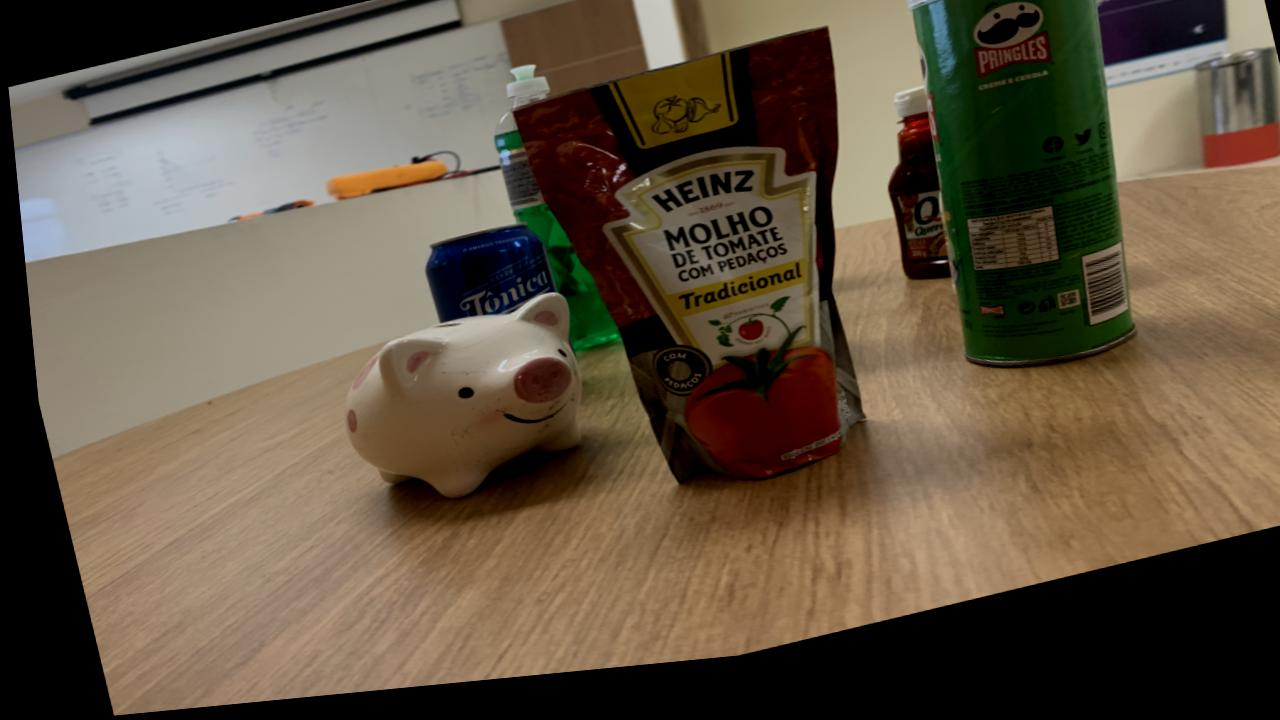Detergent-Cleanup_Items: (489, 121, 611, 361), (502, 74, 547, 119)
Ketchup-Pantry_Items: (882, 105, 943, 297)
Pig_Safe-Miscellaneous: (335, 302, 573, 506)
Pringles-Snacks: (906, 0, 1125, 386)
Tomato_Sauce-Pantry_Items: (511, 43, 853, 494)
Tonic-Drinks: (418, 233, 549, 330)
